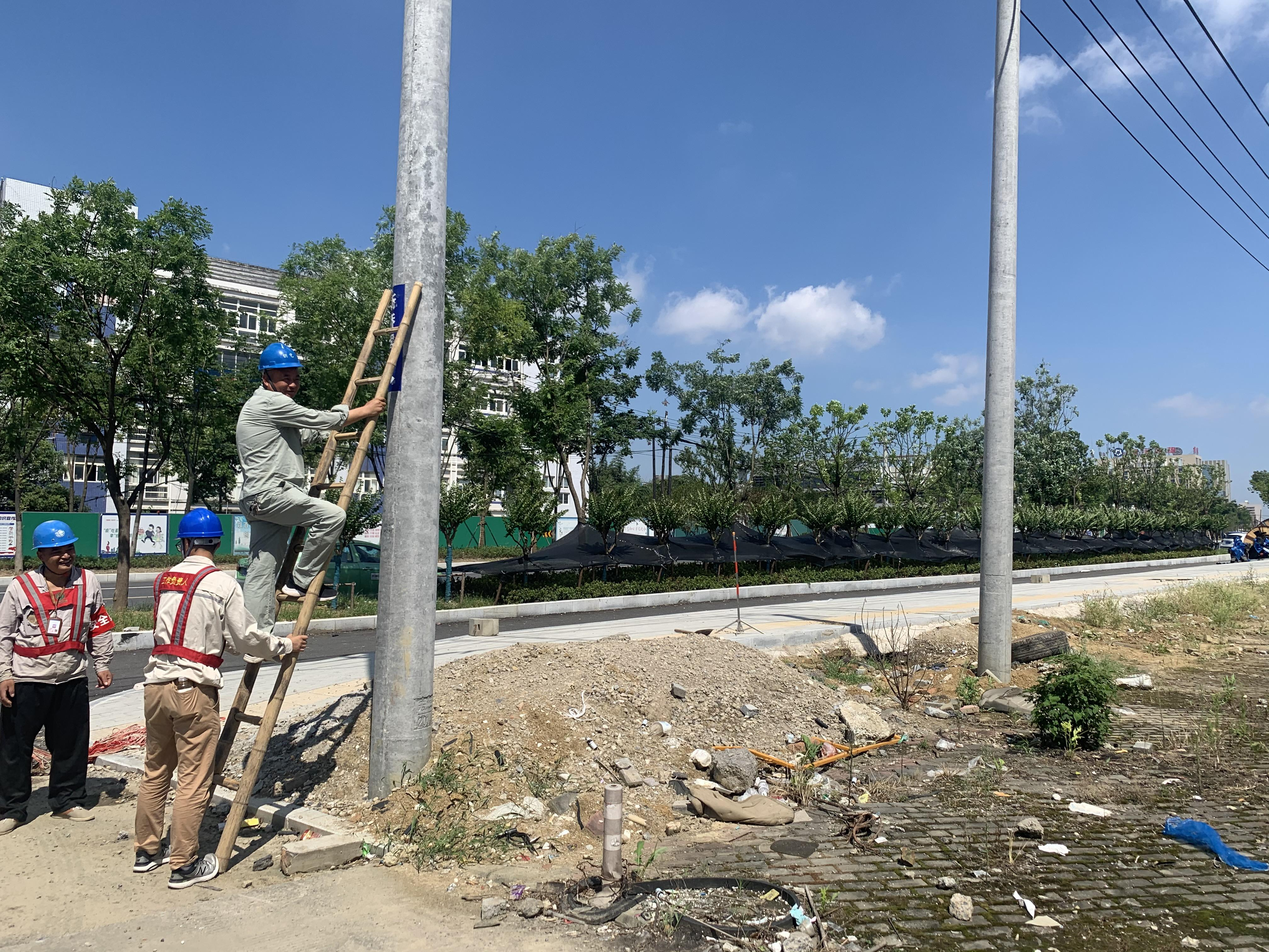未系安全绳的工作人员: (234, 339, 388, 665)
